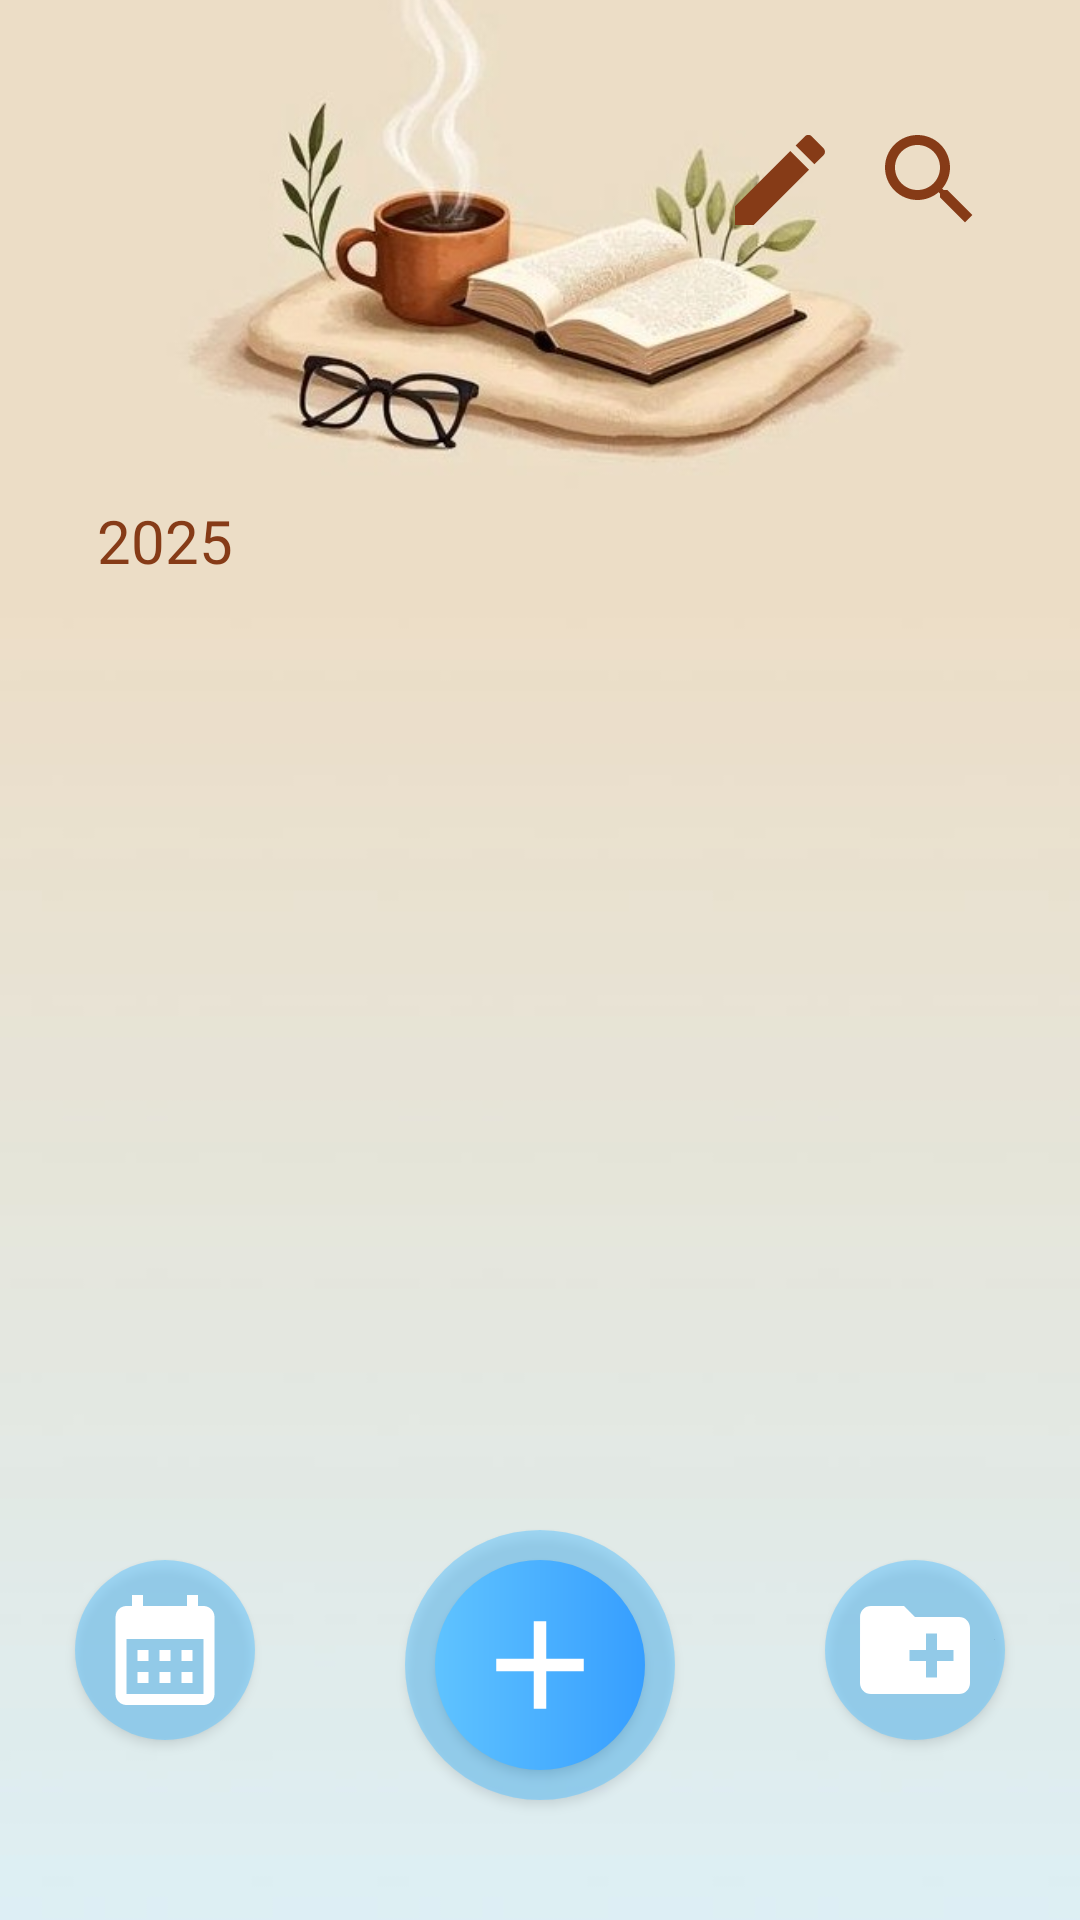

Icon bounding boxes for this 1080 x 1920 phone screenshot, format (x1, y1, x2, y2):
edit: (720, 135, 825, 240)
search: (885, 135, 972, 222)
